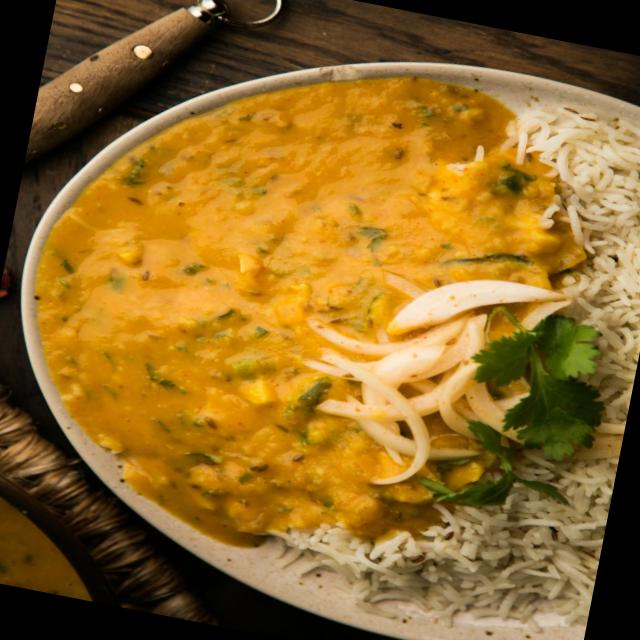dal: (0, 9, 599, 597)
rice: (249, 100, 640, 640)
